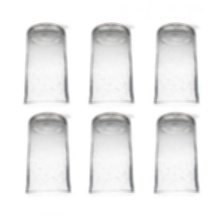glass: (145, 112, 199, 202), (18, 20, 71, 110), (22, 111, 75, 201), (150, 20, 202, 109), (87, 22, 138, 111), (88, 110, 137, 199)
